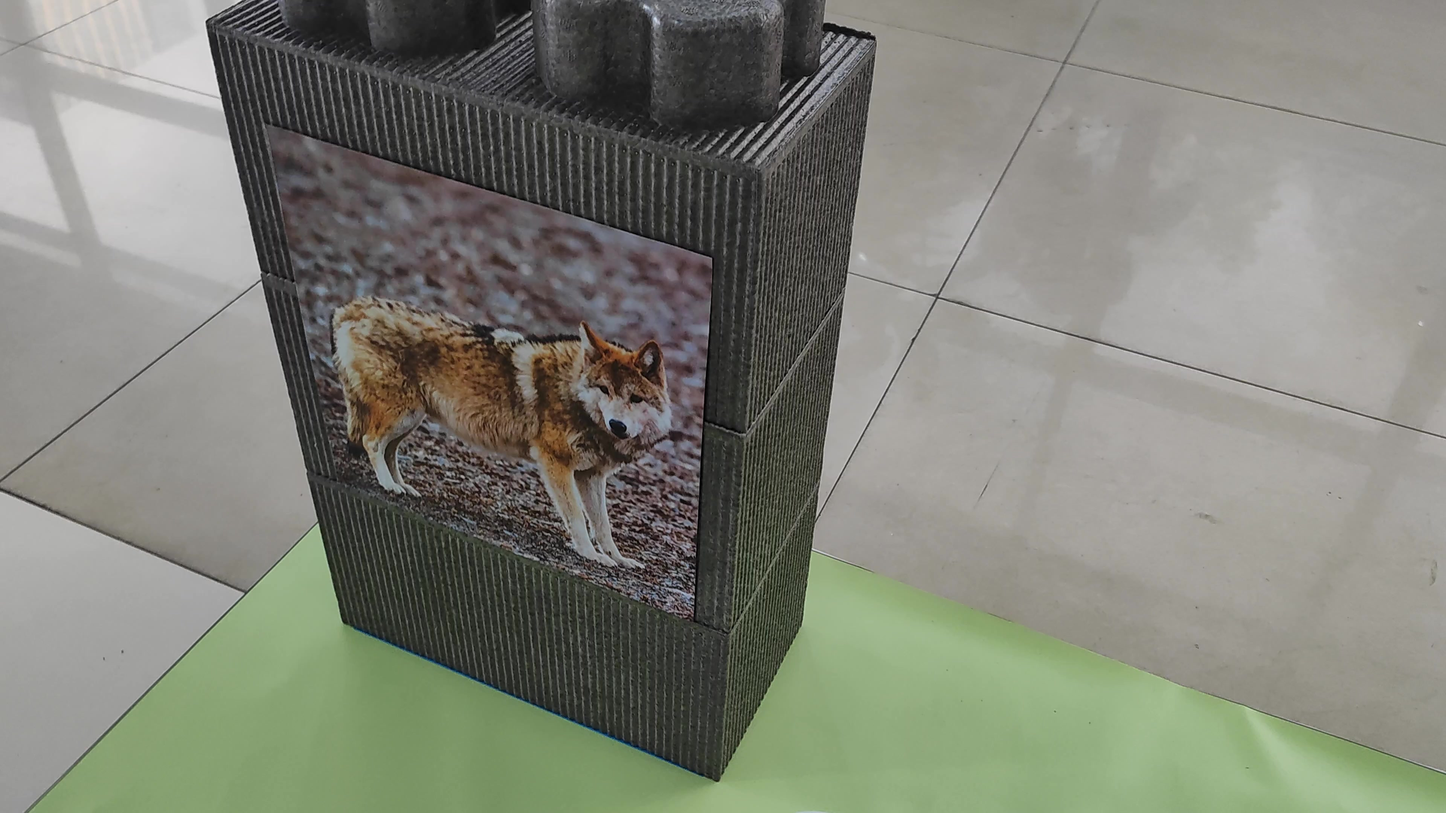wolf: (310, 260, 685, 558)
